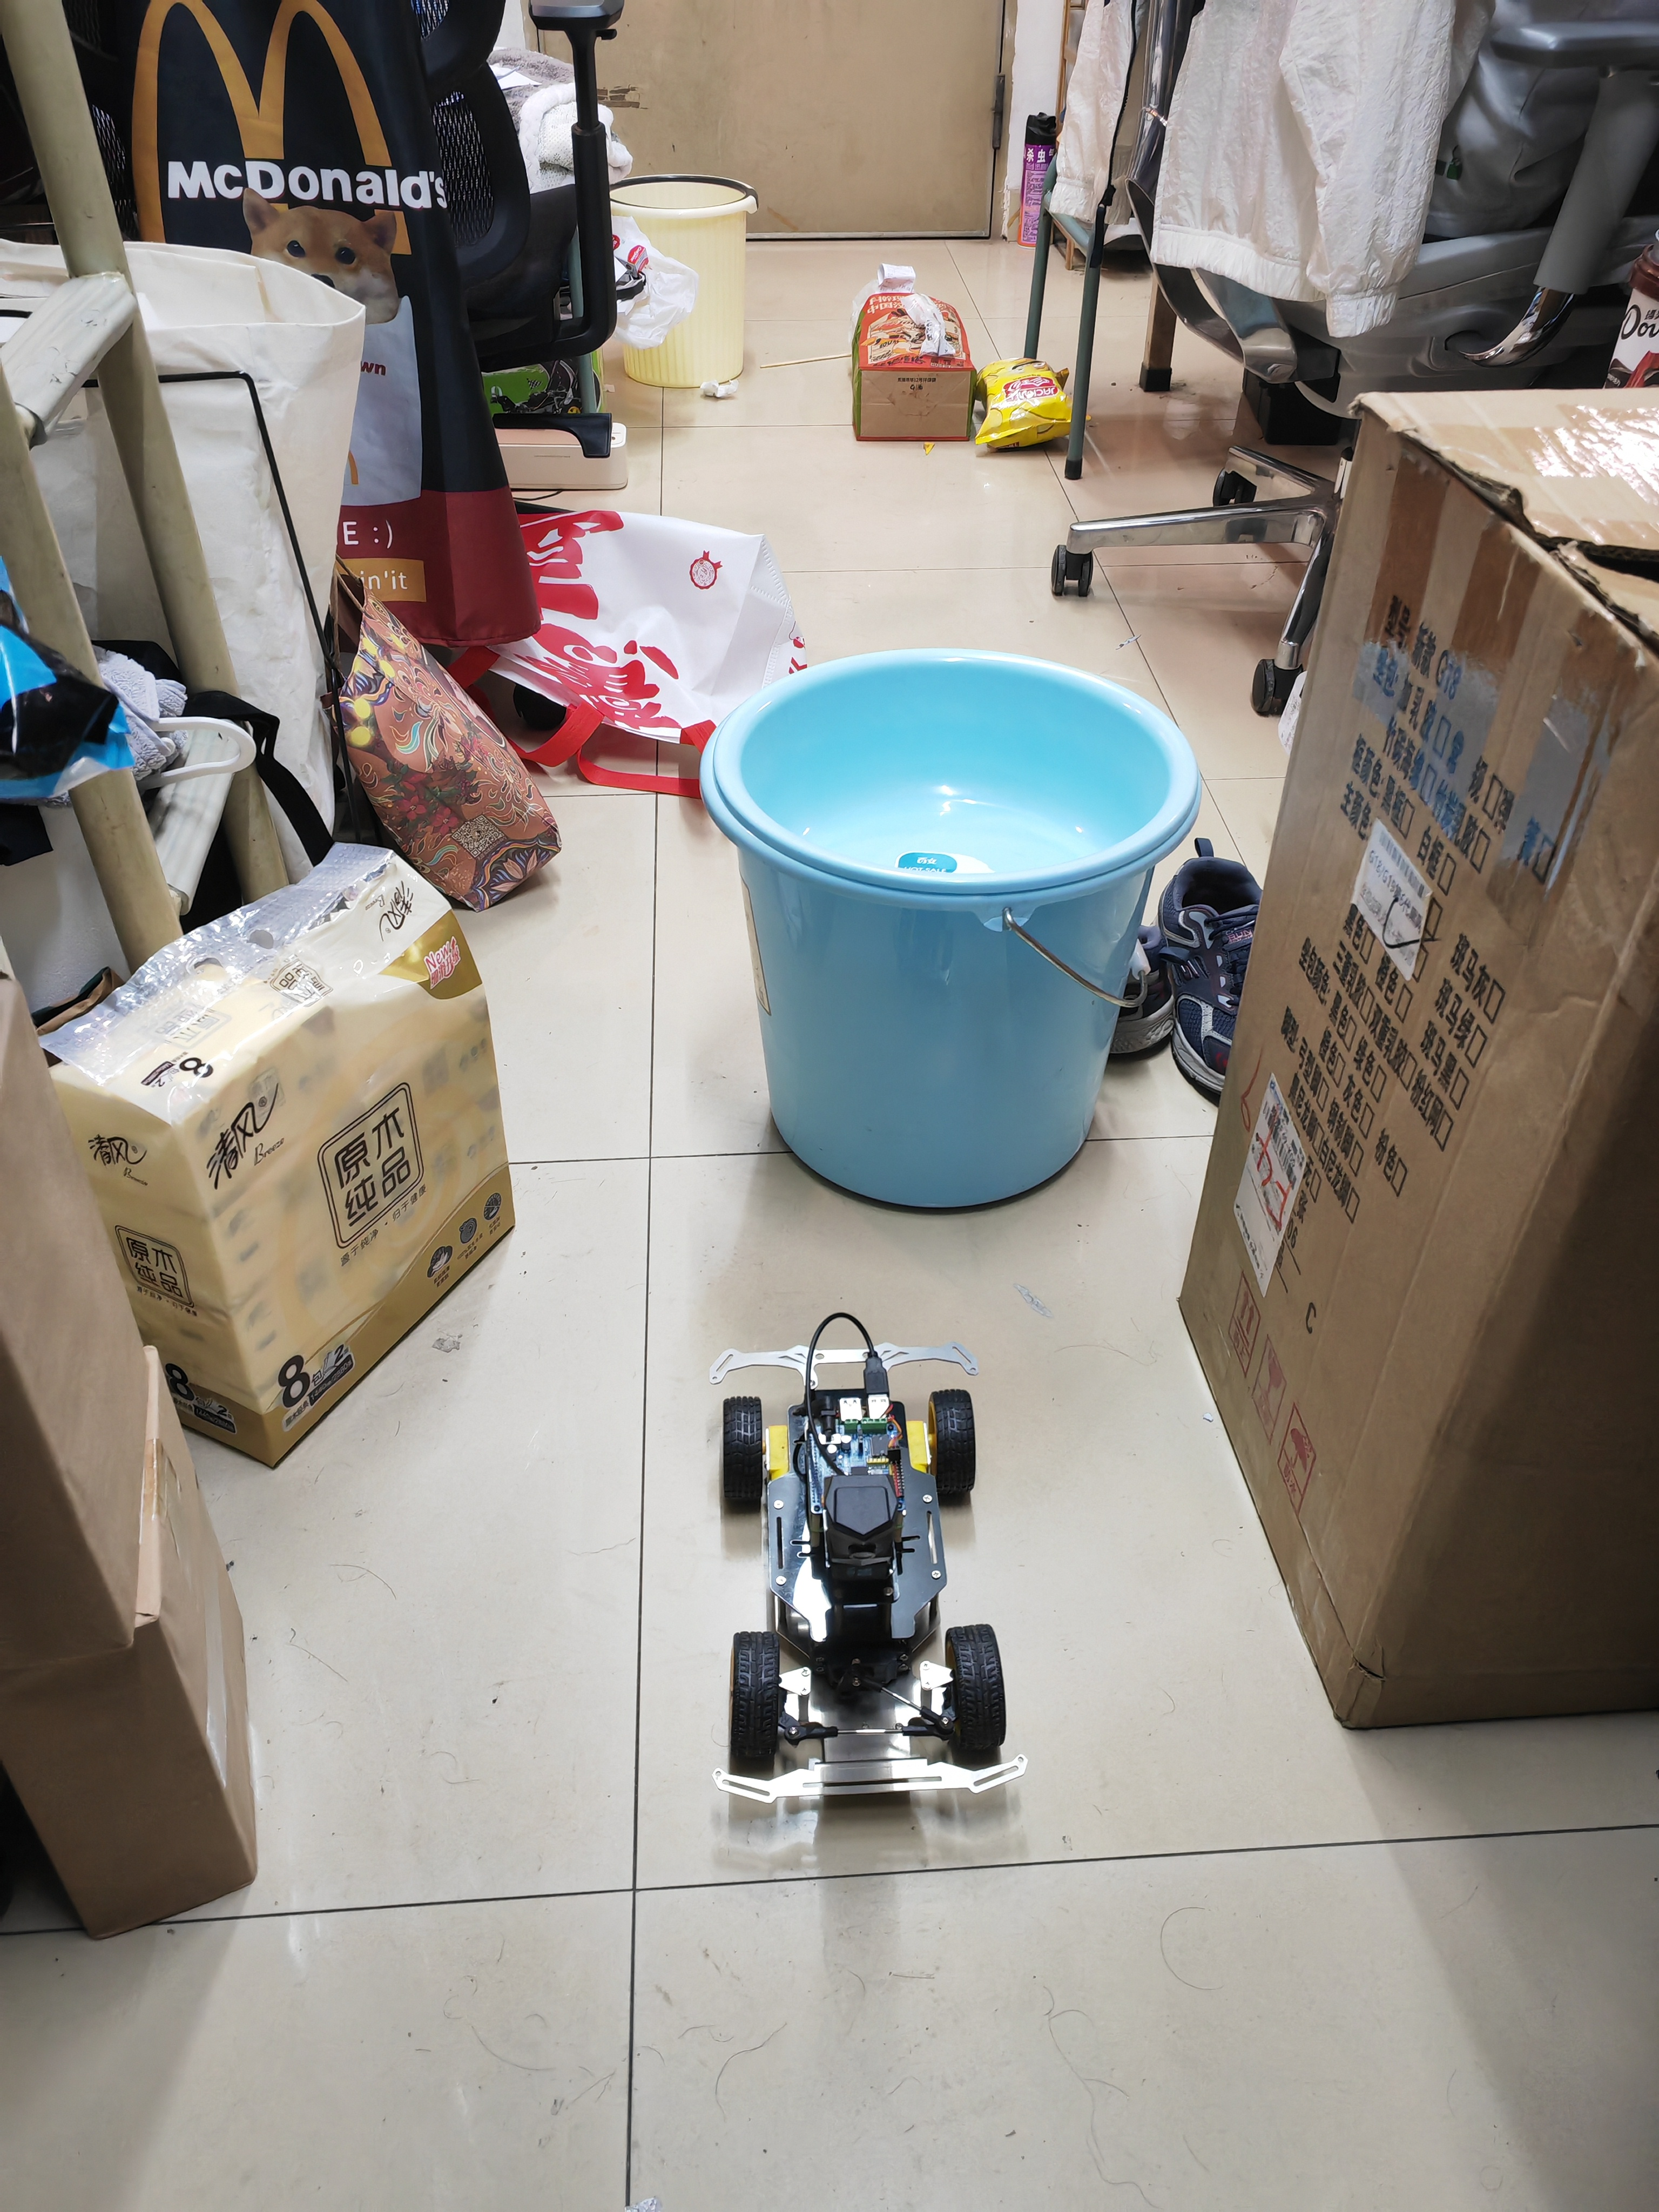car: (683, 1301, 1049, 1850)
